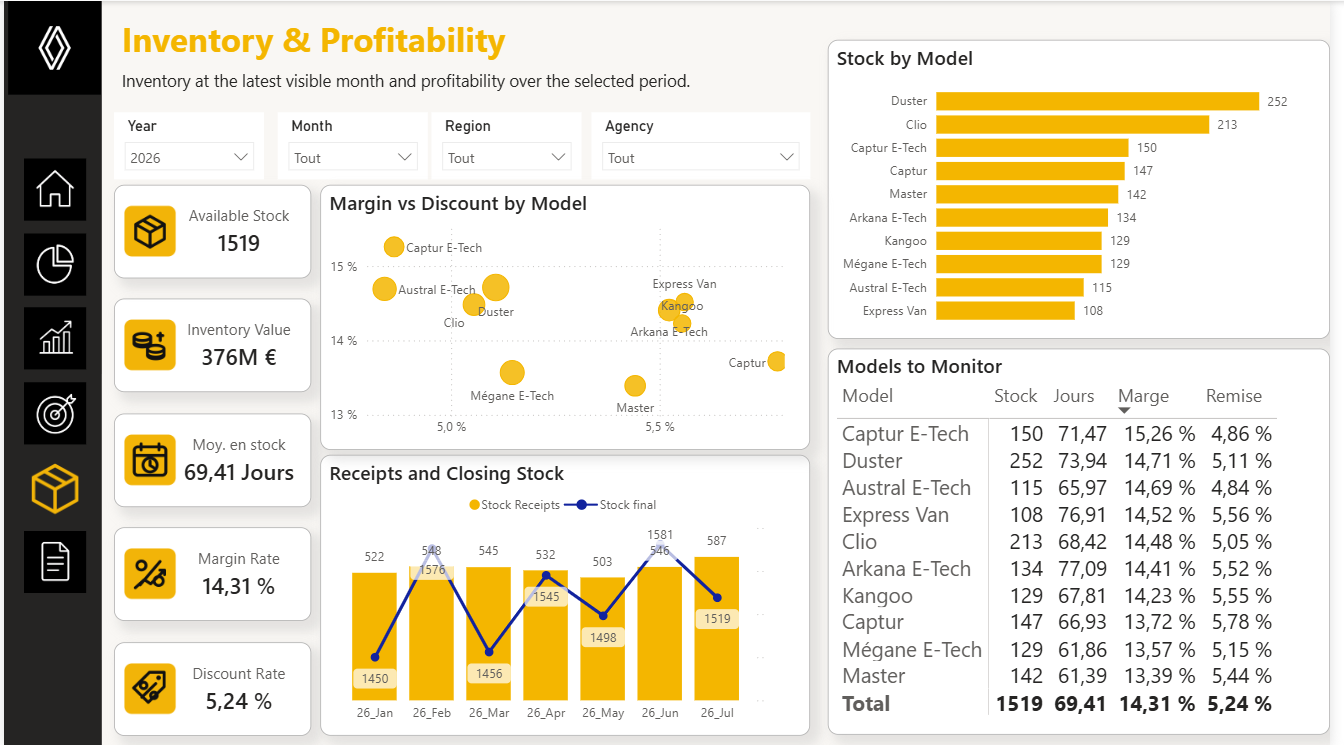

This screenshot's page, from the dashboard's own definition file:
{"tool":"powerbi","page":{"name":"Inventory & Profitability","canvas":[1280,720],"ordinal":4},"visuals":[{"type":"shape","box":[0,0,94.5,720],"z":0},{"type":"image","box":[18.8,152.6,60,60],"z":0,"group":"g1"},{"type":"textbox","box":[108.6,9.7,386.1,55.5],"z":1000},{"type":"image","box":[18.8,224.6,60,60],"z":1000,"group":"g1"},{"type":"image","box":[0,0,97.5,90.2],"z":2000},{"type":"image","box":[18.8,296.5,60,60],"z":2000,"group":"g1"},{"type":"textbox","box":[108.8,60,631.2,33.8],"z":3000},{"type":"image","box":[18.8,368.5,60,60],"z":3000,"group":"g1"},{"type":"cardVisual","fields":{"Data":["Mes mesures.Valeur du stock"]},"box":[105.7,287.5,190,90],"z":4000},{"type":"image","box":[18.8,440.4,60,60],"z":4000,"group":"g1"},{"type":"cardVisual","fields":{"Data":["Mes mesures.Jours moyens en stock"]},"box":[105.7,398,190,90],"z":5000},{"type":"image","box":[19.1,512.4,59.8,59.8],"z":5000,"group":"g1"},{"type":"cardVisual","fields":{"Data":["Mes mesures.Taux de marge"]},"box":[105.7,508.5,190,90],"z":6000},{"type":"cardVisual","fields":{"Data":["Mes mesures.Stock disponible"]},"box":[105.7,176.9,190,90],"z":7000},{"type":"cardVisual","fields":{"Data":["Mes mesures.Taux de remise"]},"box":[105.7,619,190,90],"z":8000},{"type":"lineStackedColumnComboChart","title":"Receipts and Closing Stock","fields":{"Category":["Dim_Mois.MonthAdjusted"],"Y":["Mes mesures.Réceptions stock"],"Y2":["Mes mesures.Stock disponible"]},"box":[305,437.5,472.5,271.2],"z":9000},{"type":"slicer","fields":{"Values":["Dim_Mois.Year"]},"box":[106.2,107.5,145,65.1],"z":10000},{"type":"slicer","fields":{"Values":["Dim_Mois.Month"]},"box":[263.8,107.5,145,65.1],"z":11000},{"type":"slicer","fields":{"Values":["Dim_Agence.Region"]},"box":[412.5,107.5,145,65.1],"z":12000},{"type":"slicer","fields":{"Values":["Dim_Agence.Agency_Name"]},"box":[567,107.4,211.1,65.1],"z":13000},{"type":"barChart","title":"Stock by Model","fields":{"Category":["Dim_Vehicule.Model"],"Y":["Mes mesures.Stock disponible"]},"box":[795,37.5,485,288.8],"z":14000},{"type":"scatterChart","title":"Margin vs Discount by Model","fields":{"Category":["Dim_Vehicule.Model"],"Size":["Mes mesures.Chiffre d'affaires"],"X":["Mes mesures.Taux de remise"],"Y":["Mes mesures.Taux de marge"]},"box":[305,176.9,472.5,256.2],"z":15000},{"type":"pivotTable","title":"Models to Monitor","fields":{"Rows":["Dim_Vehicule.Model"],"Values":["Mes mesures.Stock disponible","Mes mesures.Jours moyens en stock","Mes mesures.Taux de marge","Mes mesures.Taux de remise"]},"box":[795,335,485,372.5],"z":16000},{"type":"group","id":"g1","title":"Groupe 1","box":[18.8,152.6,60,419.5],"z":16001}]}

Visuals, with their boxes in screenshot pixels (x1, y1, x2, y2), scaled from the page's 1280x720 canvas onto the 1344x745 screenshot:
shape: 0:0:99:744
image: 20:158:83:220
textbox: 114:10:519:67
image: 20:232:83:294
image: 0:0:102:93
image: 20:307:83:369
textbox: 114:62:777:97
image: 20:381:83:443
cardVisual - Mes mesures.Valeur du stock: 111:297:310:391
image: 20:456:83:518
cardVisual - Mes mesures.Jours moyens en stock: 111:412:310:505
image: 20:530:83:592
cardVisual - Mes mesures.Taux de marge: 111:526:310:619
cardVisual - Mes mesures.Stock disponible: 111:183:310:276
cardVisual - Mes mesures.Taux de remise: 111:640:310:734
"Receipts and Closing Stock" lineStackedColumnComboChart: 320:453:816:733
slicer - Dim_Mois.Year: 112:111:264:179
slicer - Dim_Mois.Month: 277:111:429:179
slicer - Dim_Agence.Region: 433:111:585:179
slicer - Dim_Agence.Agency_Name: 595:111:817:178
"Stock by Model" barChart: 835:39:1343:338
"Margin vs Discount by Model" scatterChart: 320:183:816:448
"Models to Monitor" pivotTable: 835:347:1343:732
"Groupe 1" group: 20:158:83:592
